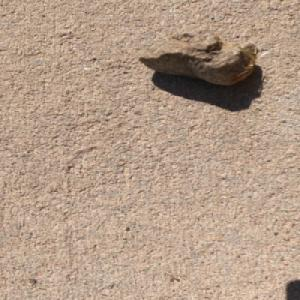Rock: (133, 22, 259, 86)
